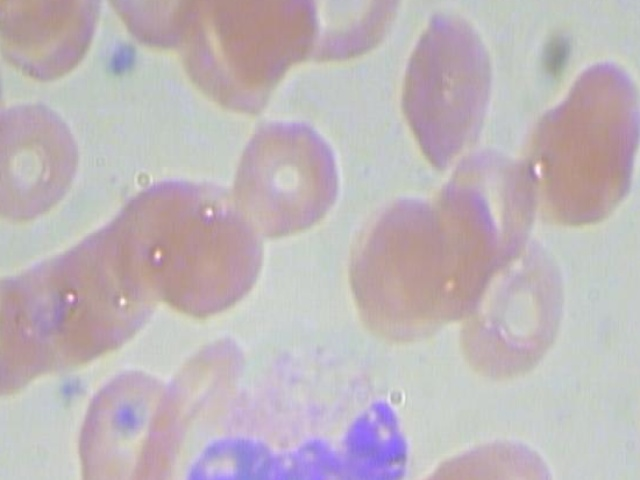Platelets: (97, 34, 142, 85), (44, 365, 89, 416)
RBC: (381, 3, 504, 181), (451, 211, 574, 389), (523, 47, 640, 225), (217, 103, 351, 253), (342, 194, 459, 344), (150, 185, 267, 334), (61, 208, 165, 355), (19, 236, 123, 383), (101, 172, 204, 319), (0, 87, 98, 236), (75, 356, 176, 480), (277, 0, 418, 67), (442, 410, 565, 480), (0, 0, 104, 81), (88, 0, 239, 43), (388, 430, 511, 480), (0, 263, 37, 410), (0, 33, 17, 183)
WBC: (167, 342, 415, 480)
